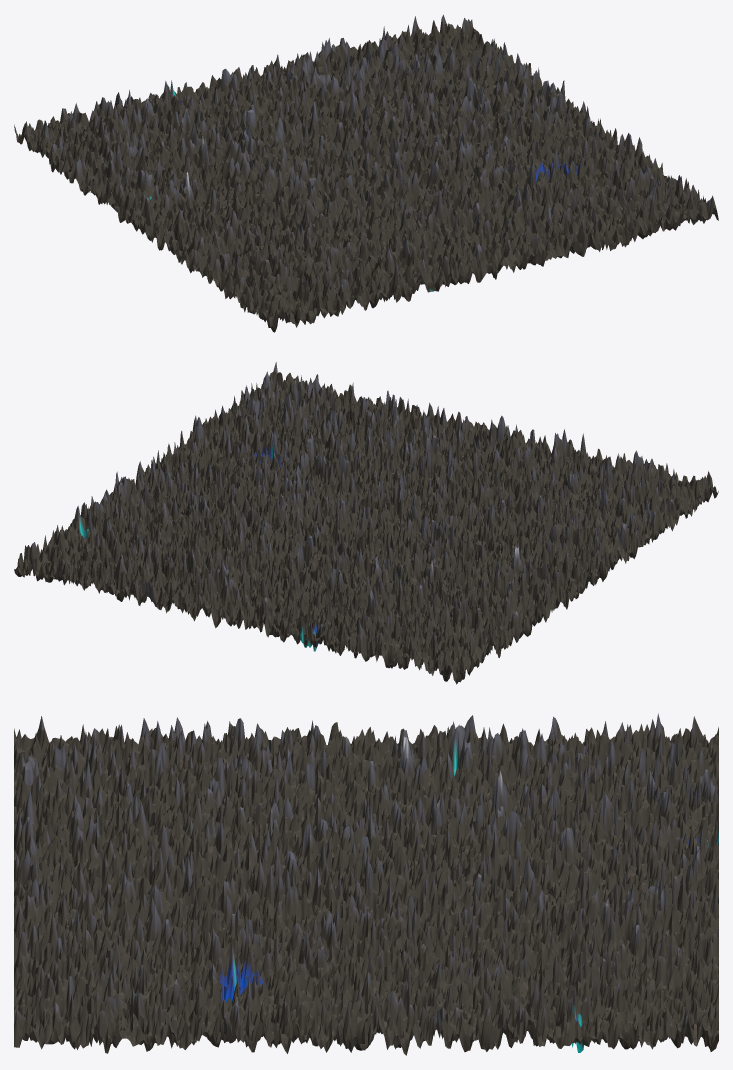
Rendered from terrain_MAGIC.obj.
The picture shows the model from 3 angles, top to bottom: view 1: azimuth 30°, elevation 25°; view 2: azimuth 150°, elevation 25°; view 3: azimuth 270°, elevation 25°; orthographic projection. The views are drawn at different scales.
Parts seen in each view (by area): view 1: MAGIC; view 2: MAGIC; view 3: MAGIC.
Boxes of the visible parts, x1,y1,x2,y2 form: MAGIC: [14, 14, 718, 332]; MAGIC: [14, 362, 718, 684]; MAGIC: [14, 713, 718, 1055].
Bounding box in the file's own units: 255 × 30.34 × 255.
1 material, 1 textured.
